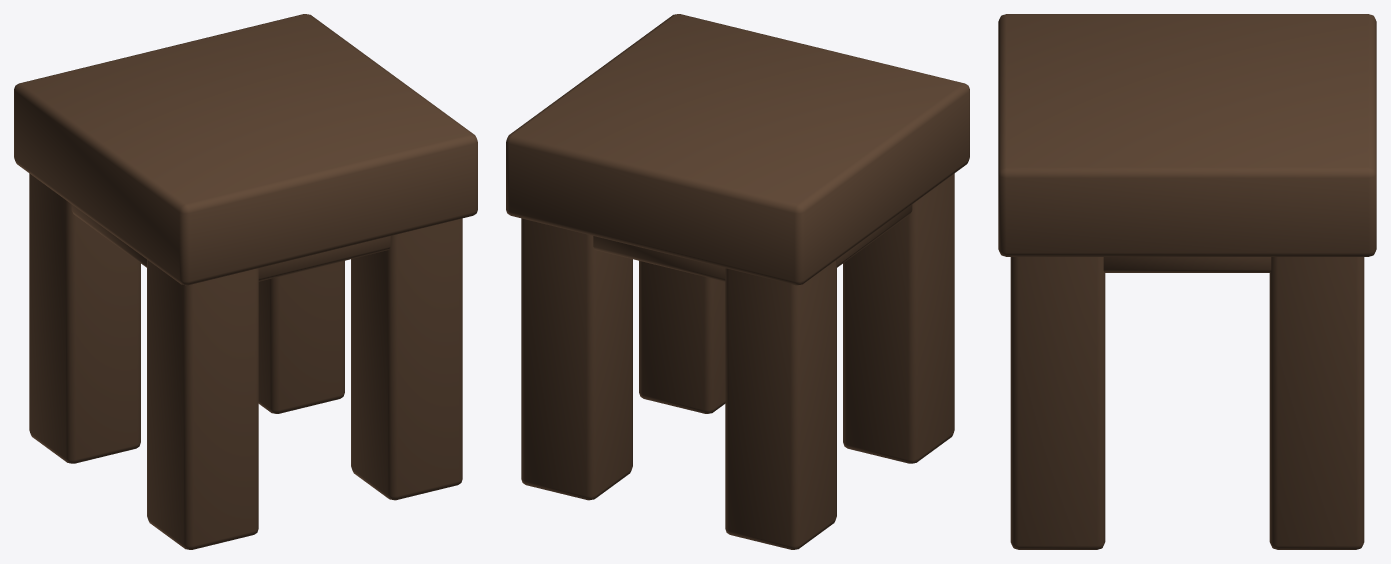
Rendered from ChairSmallWood.fbx.
3 views of the same model, side by side, from view 1: azimuth 30°, elevation 25°; view 2: azimuth 150°, elevation 25°; view 3: azimuth 270°, elevation 25° (orthographic). The views are drawn at different scales.
Visible parts, largest first — view 1: Cube.004; view 2: Cube.004; view 3: Cube.004.
Boxes of the visible parts, x1,y1,x2,y2 form: Cube.004: (14, 14, 477, 549); Cube.004: (506, 14, 969, 549); Cube.004: (998, 14, 1376, 549).
Size of the model in its own units: 0.46 by 0.46 by 0.52.
